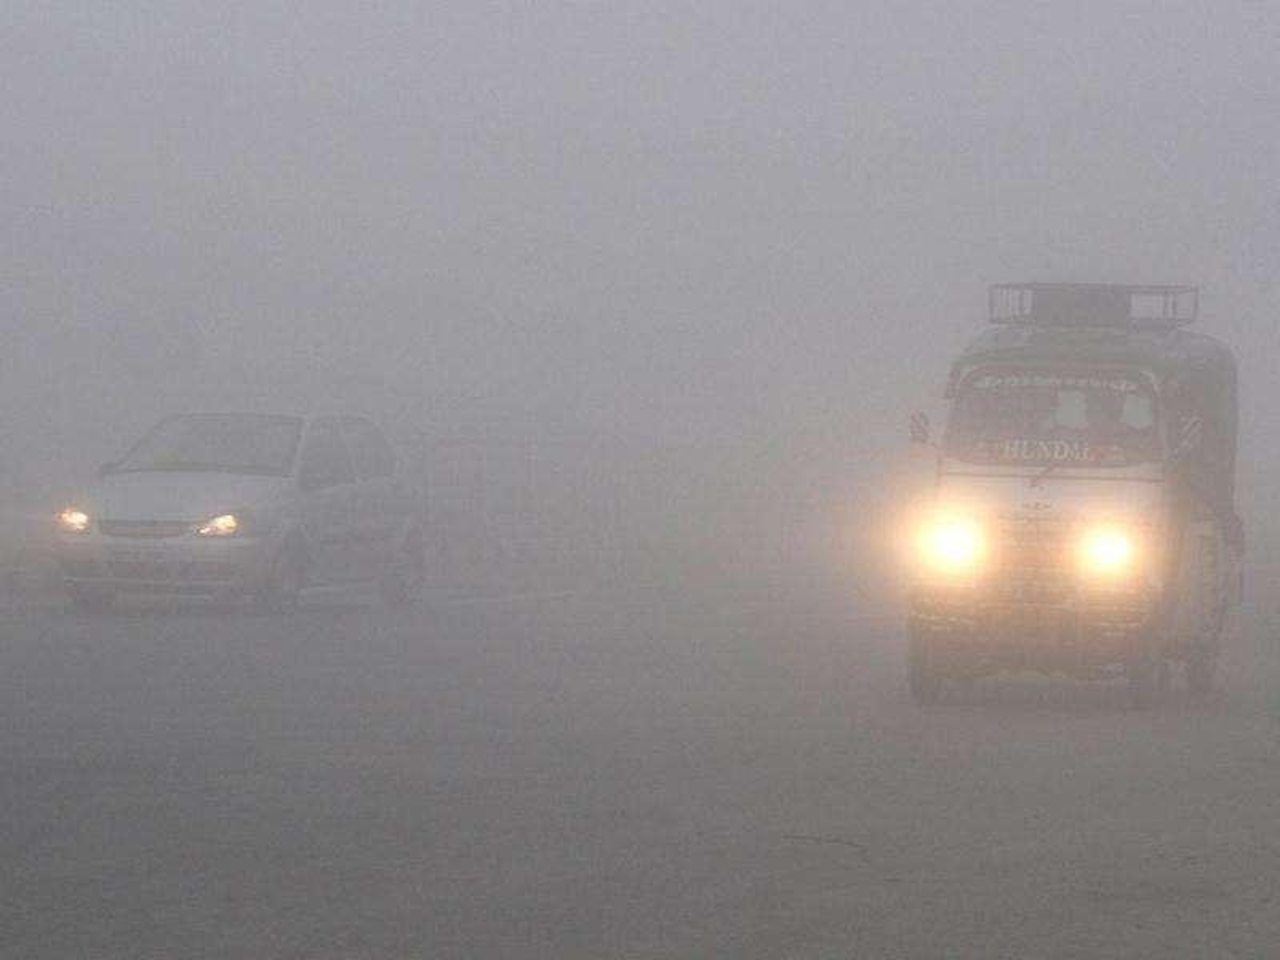car: (875, 280, 1245, 715), (66, 409, 416, 614)
